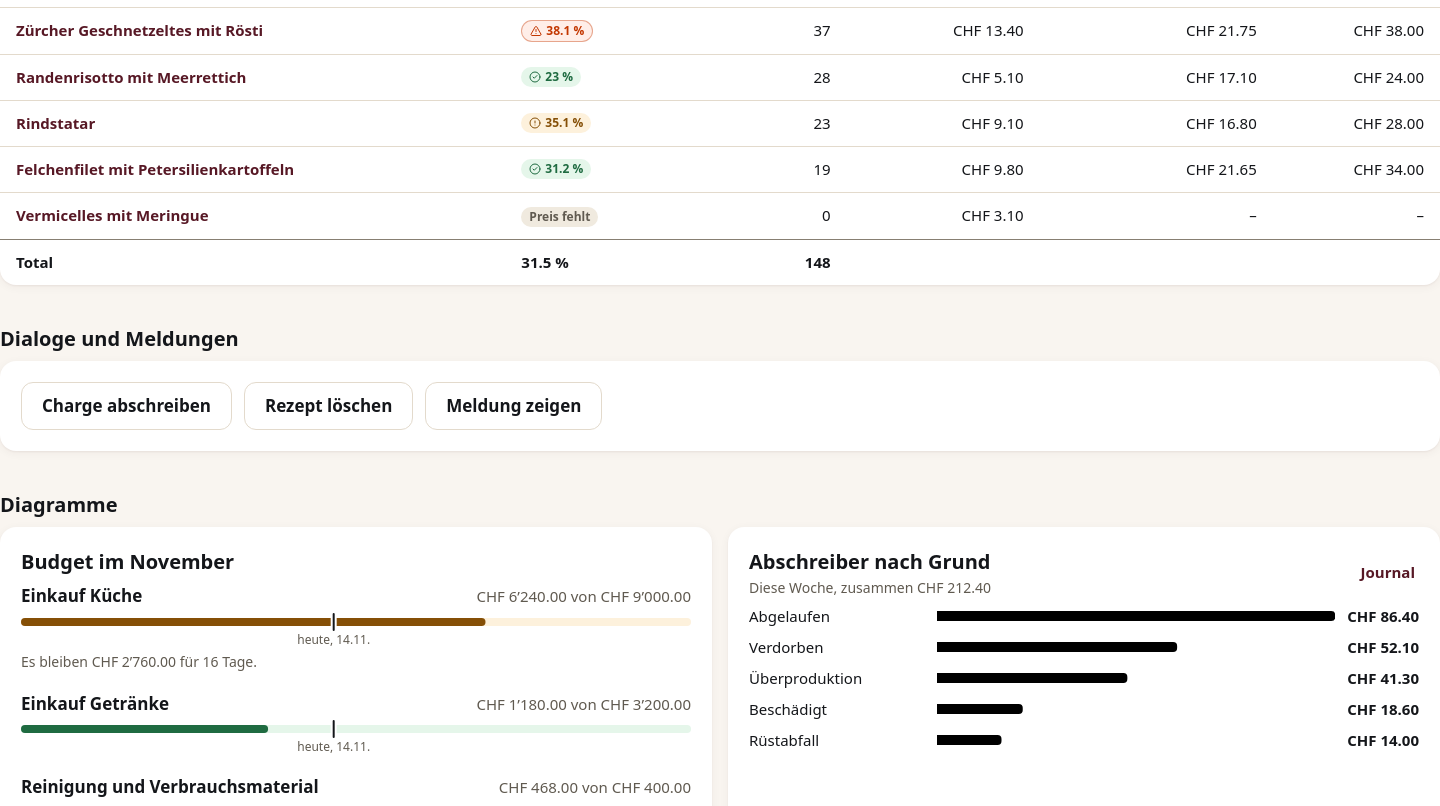
DisplaySection (style guide) › opens the sheet, writes off with a toast and takes it back with «Rückgängig»
(page scrolled)
Click the button "Charge abschreiben".
click(126, 406)  # box x1=21 y1=382 x2=232 y2=430
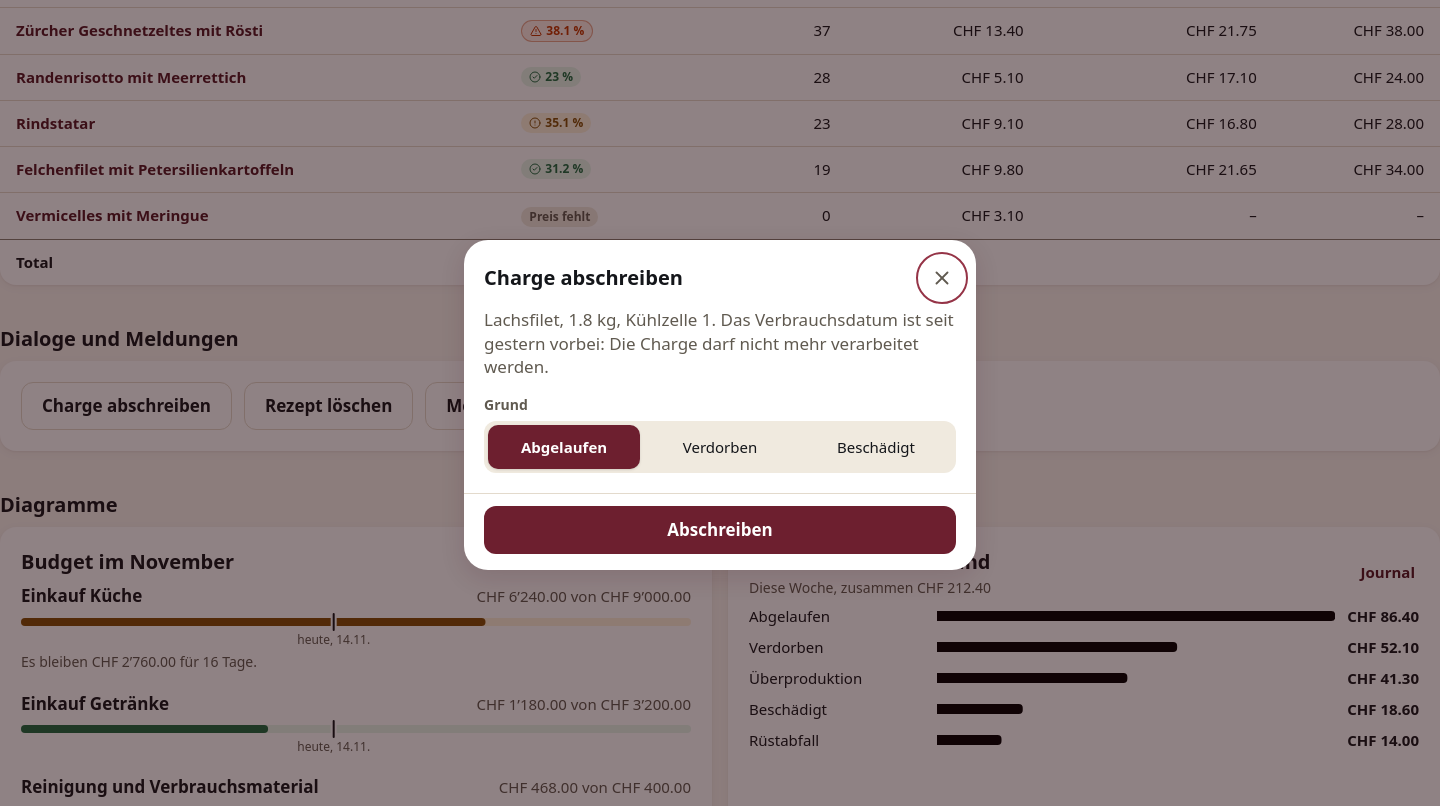
Click the radio button labelled "Verdorben".
click(720, 447)  # box x1=644 y1=425 x2=796 y2=469
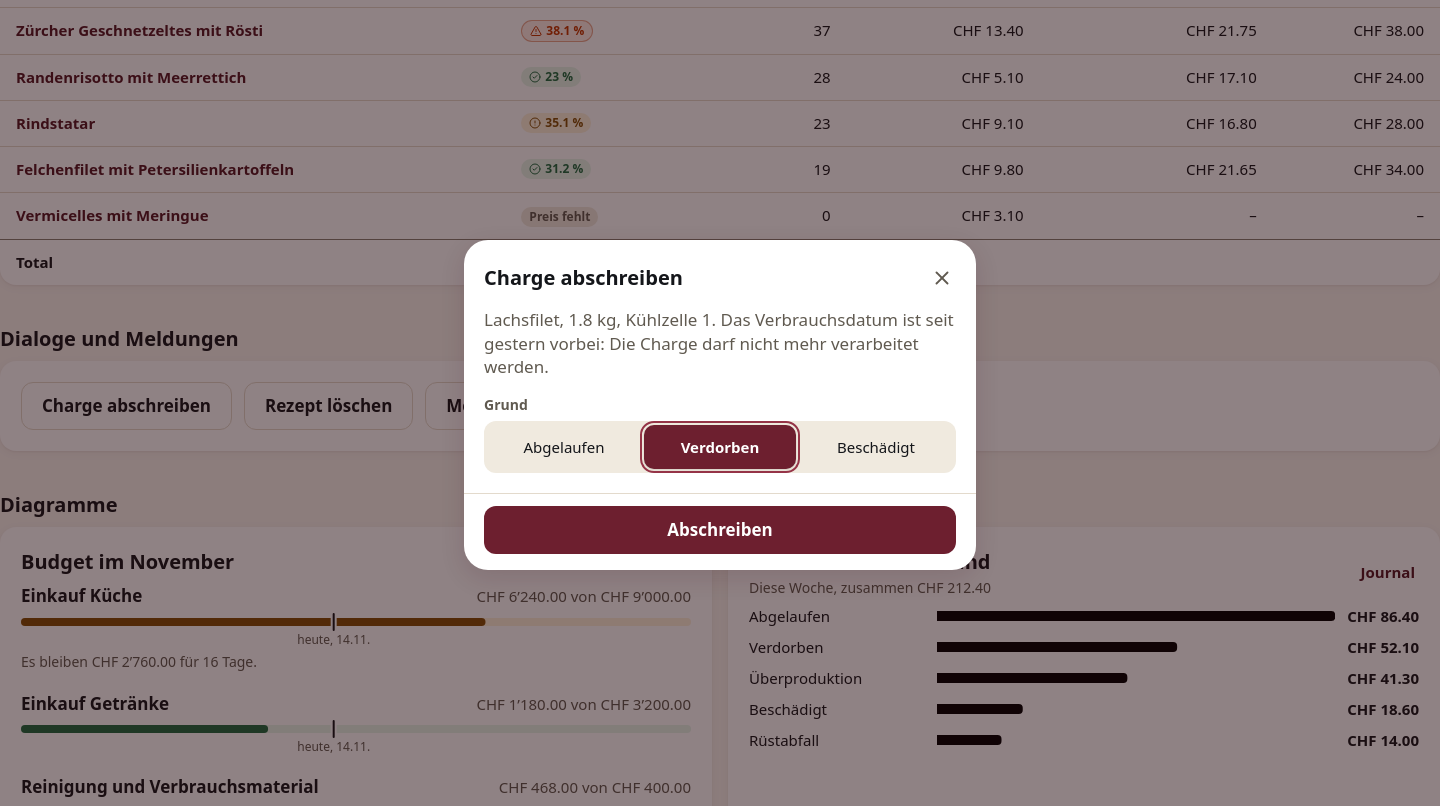
Click the button "Abschreiben".
click(720, 530)  # box x1=484 y1=506 x2=956 y2=554
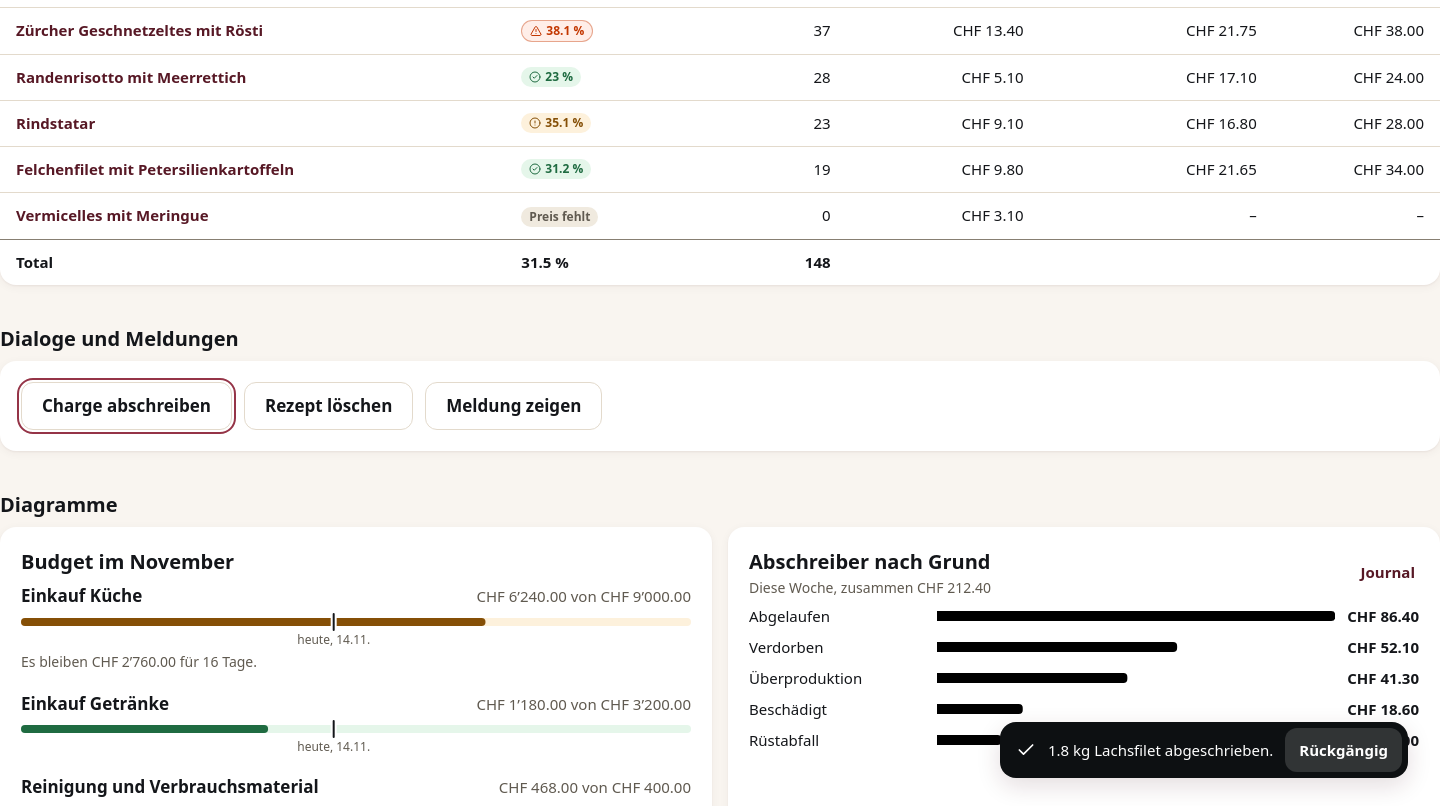
Result: the dialog is gone
Result: the text "1.8 kg Lachsfilet abgeschrieben." is shown at x1=1048 y1=740 x2=1273 y2=760
Click the button "Rückgängig".
click(1344, 750)  # box x1=1285 y1=728 x2=1402 y2=772
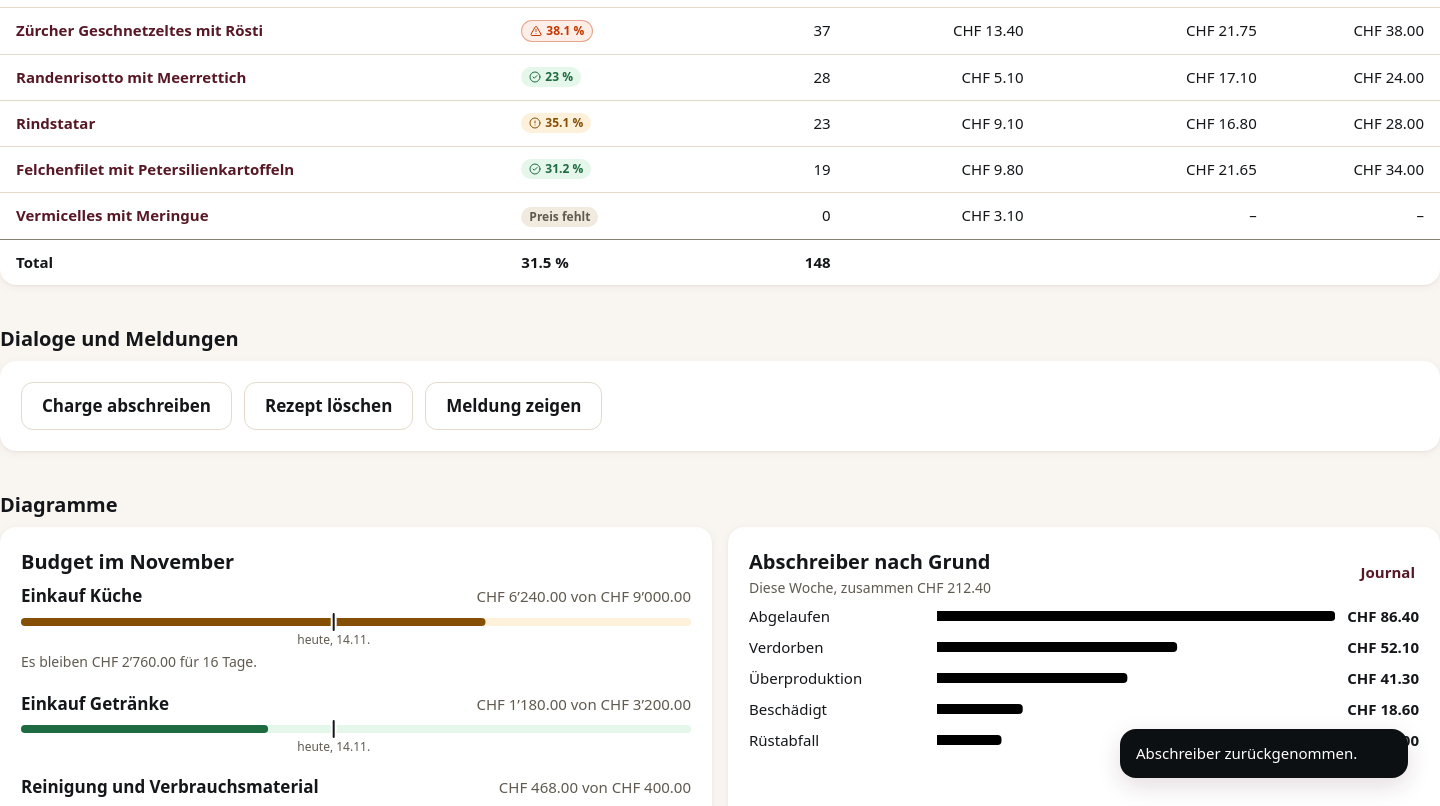
Result: the text "Abschreiber zurückgenommen." is shown at x1=1136 y1=743 x2=1357 y2=763
Result: the text "1.8 kg Lachsfilet abgeschrieben." is gone
